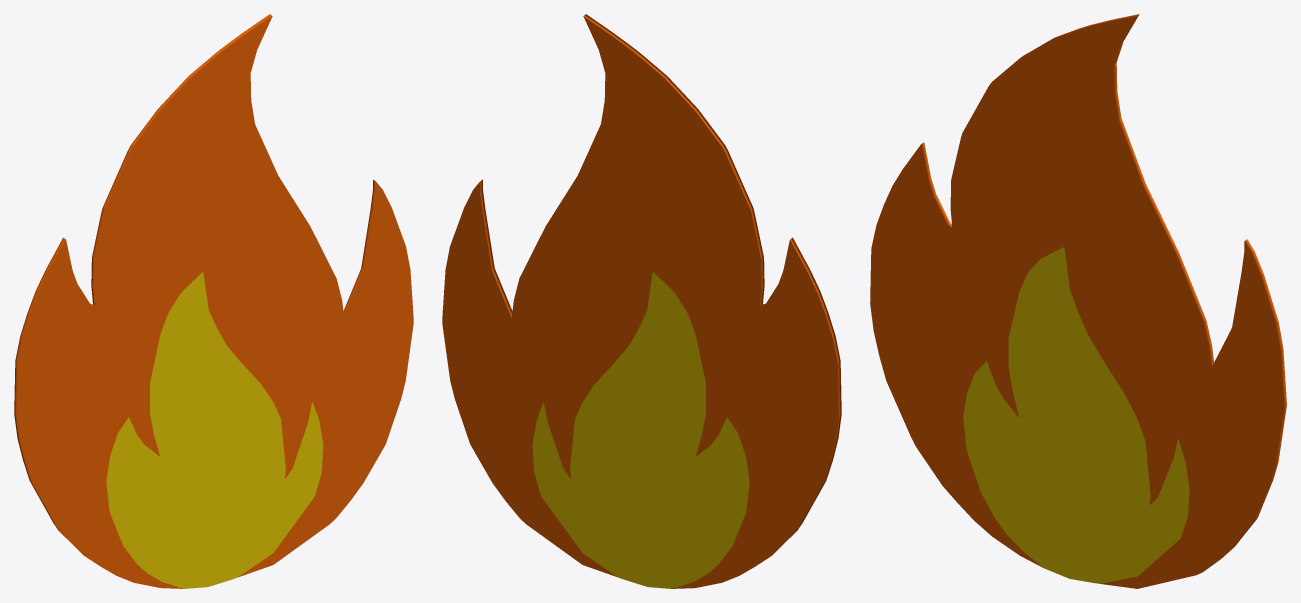
The model's file is Fire_Pickup.fbx.
3 renders of one model, left to right at view 1: azimuth 30°, elevation 25°; view 2: azimuth 150°, elevation 25°; view 3: azimuth 330°, elevation 25°, orthographic. The views are drawn at different scales.
Parts seen in each view (by area): view 1: Fire_Pickup; view 2: Fire_Pickup; view 3: Fire_Pickup.
Boxes of the visible parts, x1,y1,x2,y2 form: Fire_Pickup: (14,14,413,588); Fire_Pickup: (442,14,841,588); Fire_Pickup: (870,14,1286,588).
Bounding box in the file's own units: 39.33 × 52.6 × 0.4844.
